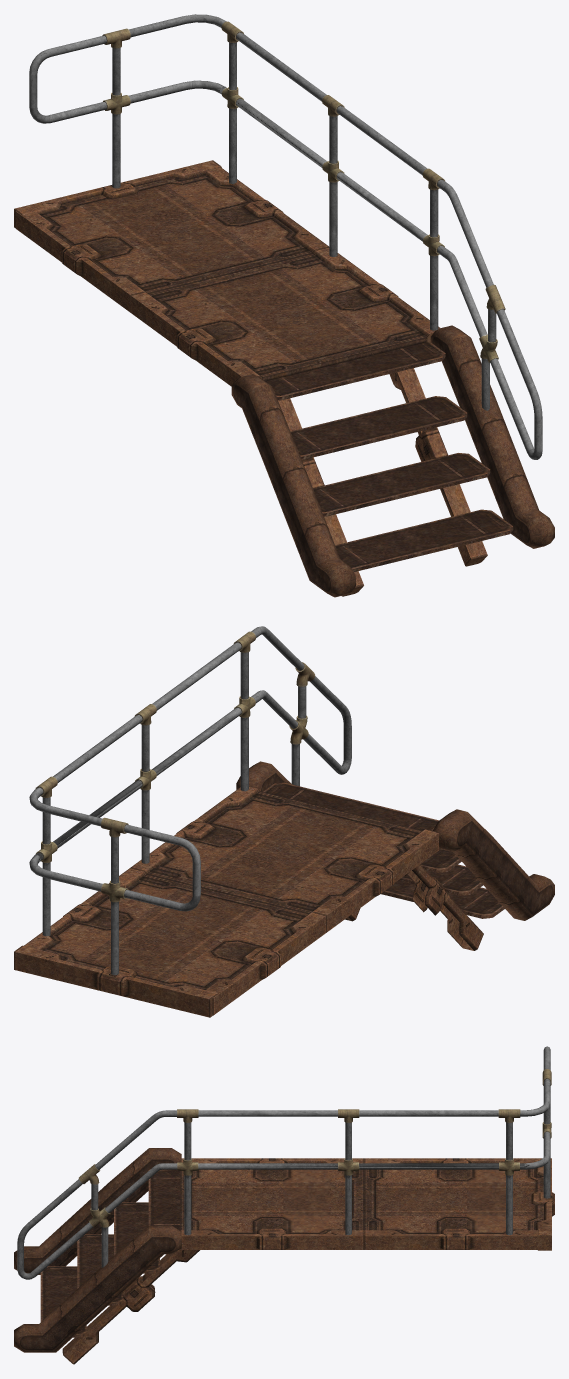
File: metal_theta_rusty_short_platform.dae
3 renders of one model, top to bottom at view 1: azimuth 30°, elevation 25°; view 2: azimuth 150°, elevation 25°; view 3: azimuth 270°, elevation 25°, orthographic. The views are drawn at different scales.
Visible parts, largest first — view 1: short_platform, catwalk__3_; view 2: catwalk__3_, short_platform; view 3: catwalk__3_, short_platform.
Boxes of the visible parts, x1,y1,x2,y2 form: short_platform: (29,14,554,597); catwalk__3_: (14,160,487,596); catwalk__3_: (14,787,483,1017); short_platform: (29,626,554,974); catwalk__3_: (62,1158,554,1364); short_platform: (14,1046,551,1352).
Bounding box in the file's own units: 2.24 × 3.19 × 5.89.
